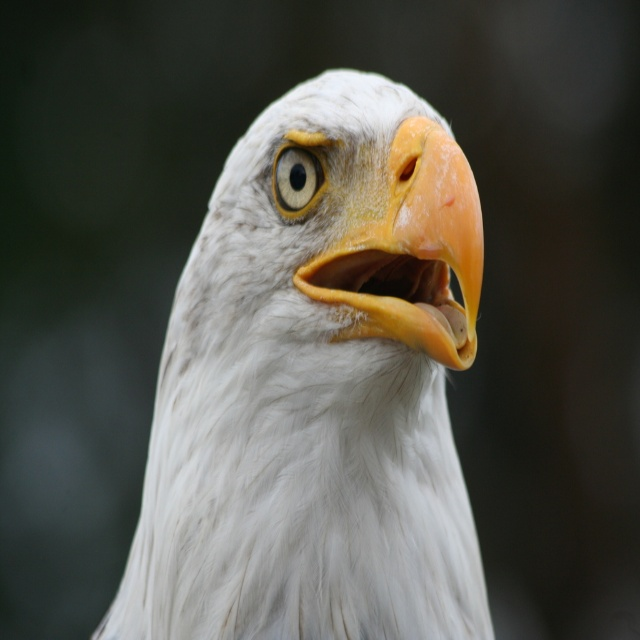Eagle: (89, 62, 498, 639)
